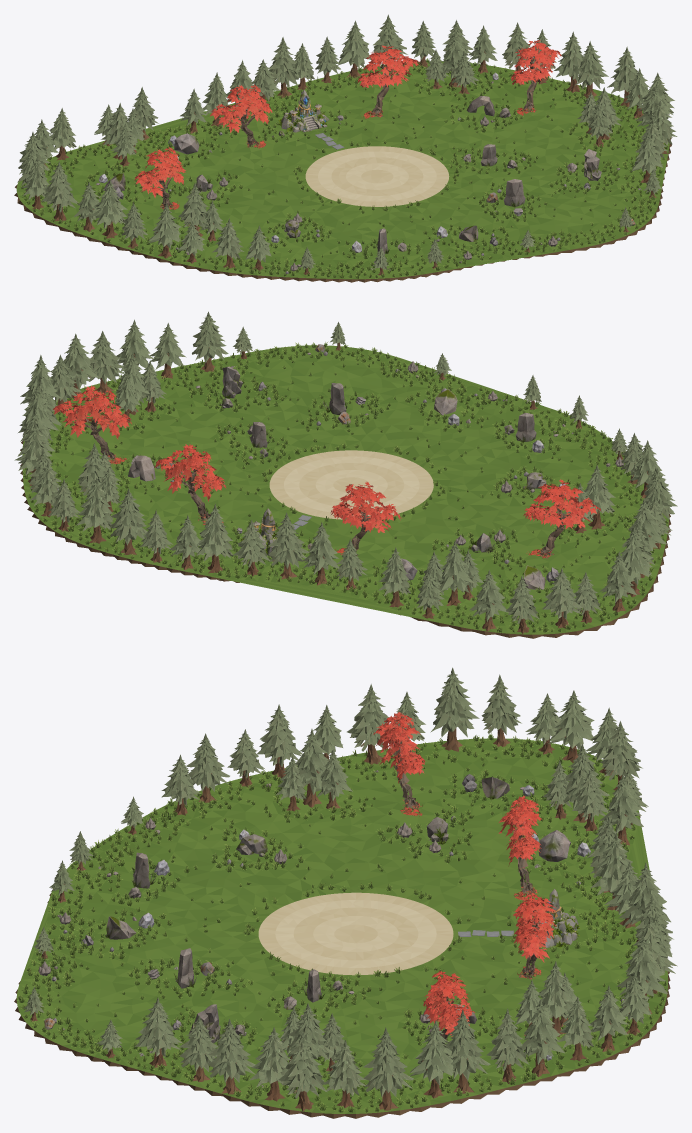
Rendered from samurai_arena.glb.
The picture shows the model from 3 angles, top to bottom: view 1: azimuth 30°, elevation 25°; view 2: azimuth 150°, elevation 25°; view 3: azimuth 270°, elevation 25°; orthographic projection. The views are drawn at different scales.
Visible parts, largest first — view 1: Ground, Trees, Grass, Stones, Props; view 2: Ground, Trees, Grass, Stones, Props; view 3: Ground, Trees, Grass, Stones, Props.
Part boxes in pixels (box(x1,y1,x2,y2)): Ground: box(14, 61, 671, 282); Trees: box(17, 14, 677, 275); Grass: box(20, 58, 668, 278); Stones: box(96, 72, 641, 273); Props: box(278, 89, 344, 149); Ground: box(20, 345, 670, 638); Trees: box(14, 311, 677, 633); Grass: box(22, 342, 668, 632); Stones: box(57, 344, 623, 619); Props: box(239, 508, 311, 556); Ground: box(14, 738, 670, 1118); Trees: box(23, 667, 677, 1111); Grass: box(17, 732, 667, 1112); Stones: box(38, 770, 624, 1090); Props: box(458, 889, 580, 948).
Size of the model in its own units: 69.98 by 14.39 by 51.07.
Materials: 7 (6 with a texture image).
